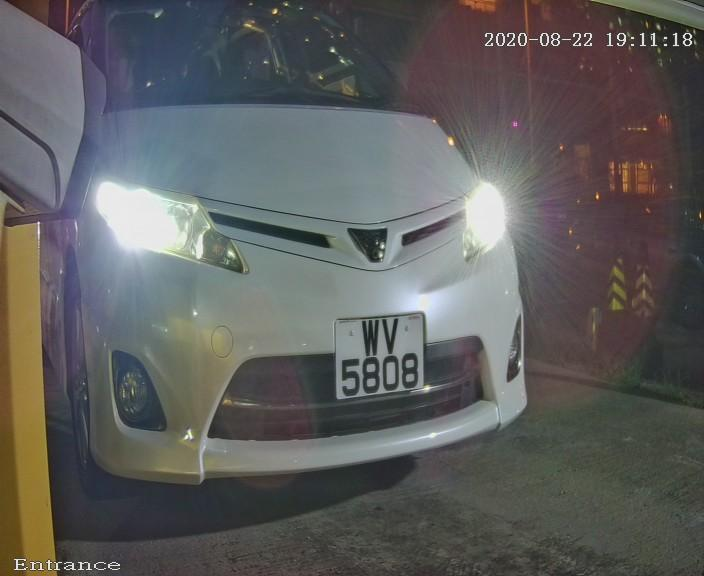Car: (4, 3, 573, 520)
License Plate: (321, 301, 437, 415)
